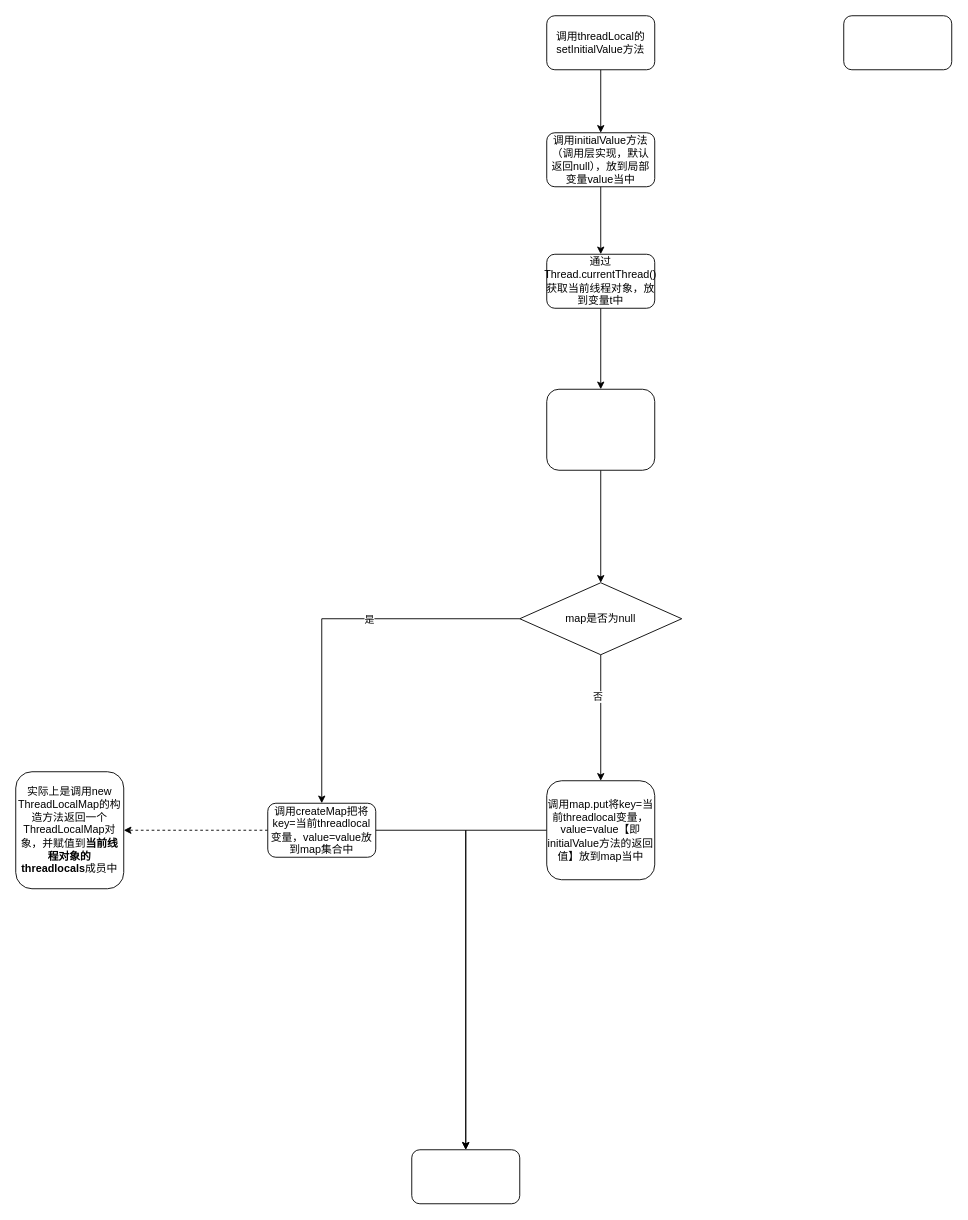
Image size: 968x1220. Some labels were removed from this diagram. Each missing label, with the box of its shape:
返回value: (411, 1149, 520, 1204)
返回上层: (843, 15, 952, 70)
通过getMap获取t里面的ThreadLocalMap，其实就是t的threadlocals成员，放到变量map中: (546, 388, 655, 470)
